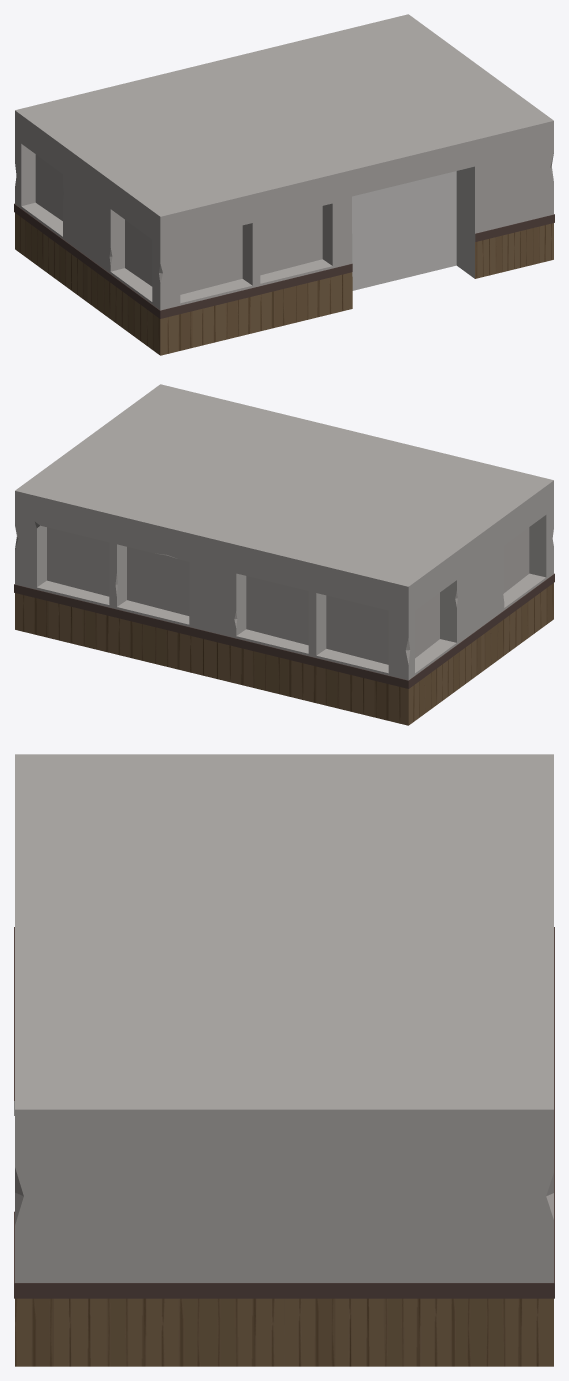
File: SM_Env_Base_13.fbx
3 renders of one model, top to bottom at view 1: azimuth 30°, elevation 25°; view 2: azimuth 150°, elevation 25°; view 3: azimuth 270°, elevation 25°, orthographic. The views are drawn at different scales.
Parts seen in each view (by area): view 1: SM_Env_Base_13; view 2: SM_Env_Base_13; view 3: SM_Env_Base_13.
Boxes of the visible parts, x1=… form: SM_Env_Base_13: x1=14, y1=14, x2=554, y2=355; SM_Env_Base_13: x1=14, y1=384, x2=554, y2=725; SM_Env_Base_13: x1=14, y1=754, x2=554, y2=1366.
Bounding box in the file's own units: 1187 × 399 × 761.
Materials: 1 (1 with a texture image).
